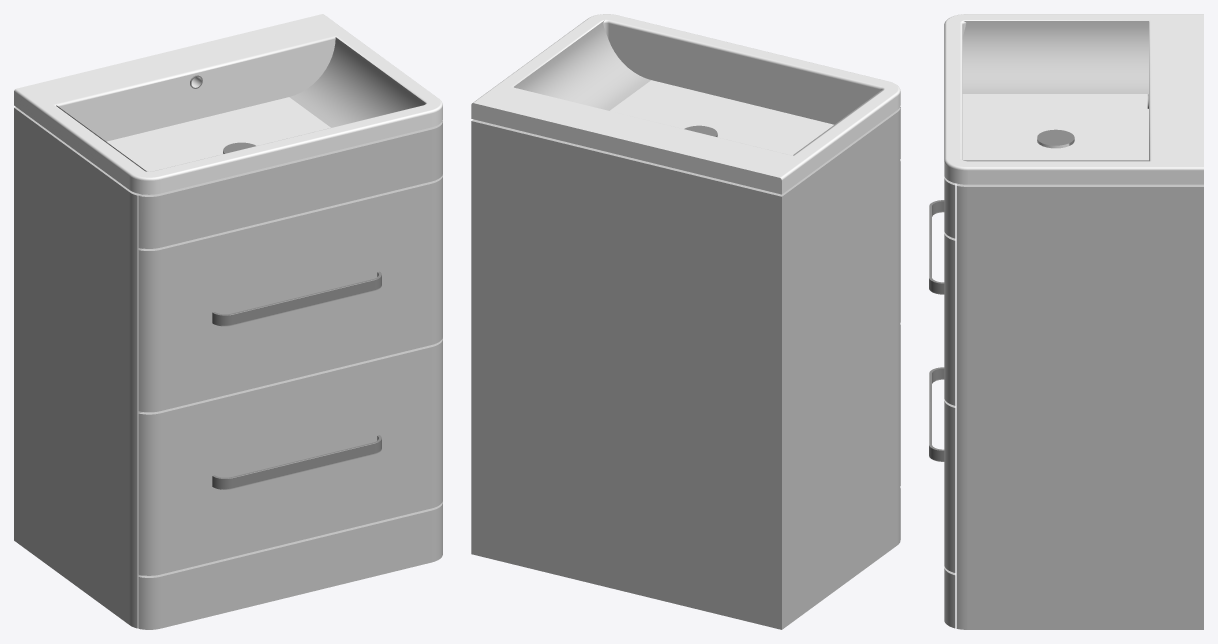
The model's file is vanity.glb.
3 views of the same model, side by side, from view 1: azimuth 30°, elevation 25°; view 2: azimuth 150°, elevation 25°; view 3: azimuth 270°, elevation 25° (orthographic). The views are drawn at different scales.
Visible parts, largest first — view 1: Geom3D_QXVenice60, Geom3D, Geom3D_; view 2: Geom3D_QXVenice60, Geom3D; view 3: Geom3D_QXVenice60, Geom3D, Geom3D_.
Boxes of the visible parts, box(x1,y1,x2,y2) form: Geom3D_QXVenice60: box(14, 37, 442, 629); Geom3D: box(14, 14, 442, 194); Geom3D_: box(190, 75, 381, 489); Geom3D_QXVenice60: box(471, 20, 900, 629); Geom3D: box(471, 14, 900, 194); Geom3D_QXVenice60: box(944, 21, 1203, 629); Geom3D: box(944, 14, 1203, 184); Geom3D_: box(929, 94, 1148, 461).
Size of the model in its own units: 0.6 by 0.834 by 0.45.
Materials: 3 (1 with a texture image).
